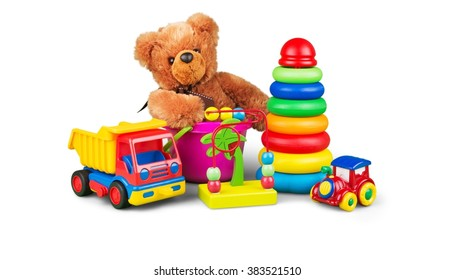toy: (122, 19, 276, 121)
